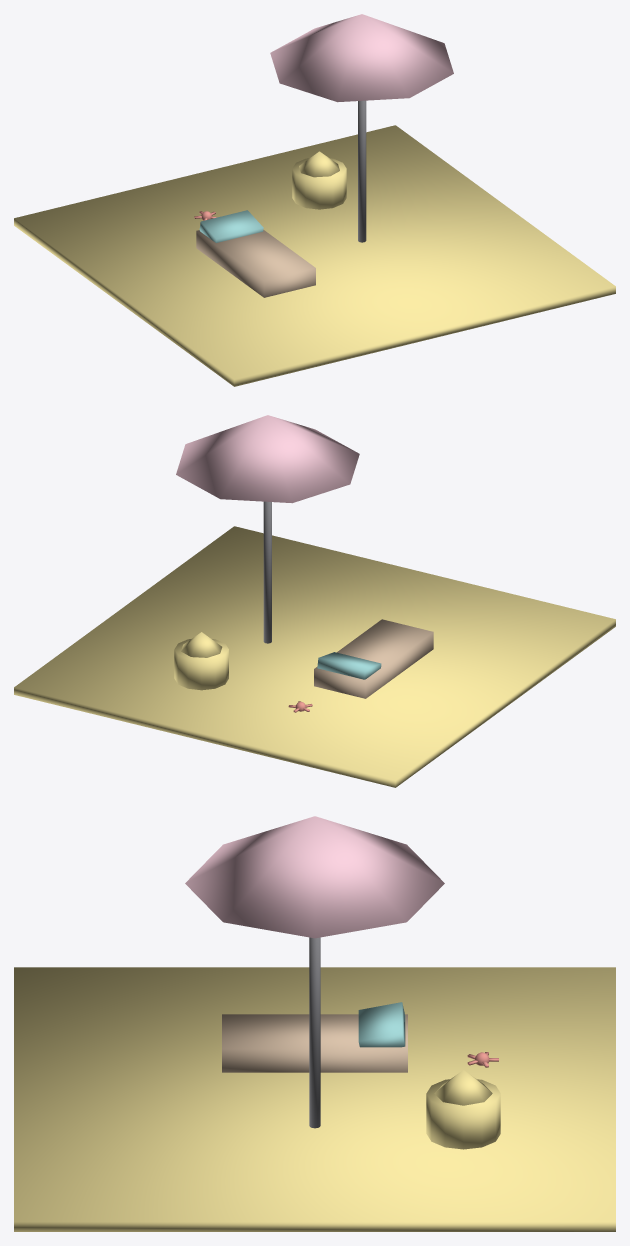
Rendered from beach_resort_lv1.glb.
3 renders of one model, top to bottom at view 1: azimuth 30°, elevation 25°; view 2: azimuth 150°, elevation 25°; view 3: azimuth 270°, elevation 25°, orthographic. The views are drawn at different scales.
Visible parts, largest first — view 1: sand_base, umbrella_top, lounge, sandcastle_b, pillow, umbrella_pole, sandcastle_t; view 2: sand_base, umbrella_top, lounge, sandcastle_b, umbrella_pole, pillow, sandcastle_t; view 3: sand_base, umbrella_top, lounge, sandcastle_b, umbrella_pole, pillow, sandcastle_t.
Boxes of the visible parts, bbox=[...] form: sand_base: bbox=[14, 125, 615, 386]; umbrella_top: bbox=[270, 14, 453, 102]; lounge: bbox=[196, 230, 315, 297]; sandcastle_b: bbox=[292, 158, 346, 209]; pillow: bbox=[199, 210, 263, 242]; umbrella_pole: bbox=[358, 100, 366, 242]; sandcastle_t: bbox=[299, 151, 339, 177]; sand_base: bbox=[14, 526, 615, 787]; umbrella_top: bbox=[176, 415, 359, 503]; lounge: bbox=[314, 619, 433, 698]; sandcastle_b: bbox=[174, 639, 228, 690]; umbrella_pole: bbox=[263, 501, 271, 643]; pillow: bbox=[317, 652, 381, 679]; sandcastle_t: bbox=[181, 632, 222, 657]; sand_base: bbox=[14, 967, 615, 1231]; umbrella_top: bbox=[185, 816, 444, 938]; lounge: bbox=[222, 1014, 407, 1072]; sandcastle_b: bbox=[426, 1079, 500, 1149]; umbrella_pole: bbox=[309, 937, 320, 1128]; pillow: bbox=[358, 1002, 405, 1047]; sandcastle_t: bbox=[434, 1070, 492, 1105].
Bounding box in the file's own units: 1.62 × 0.95 × 1.62.
